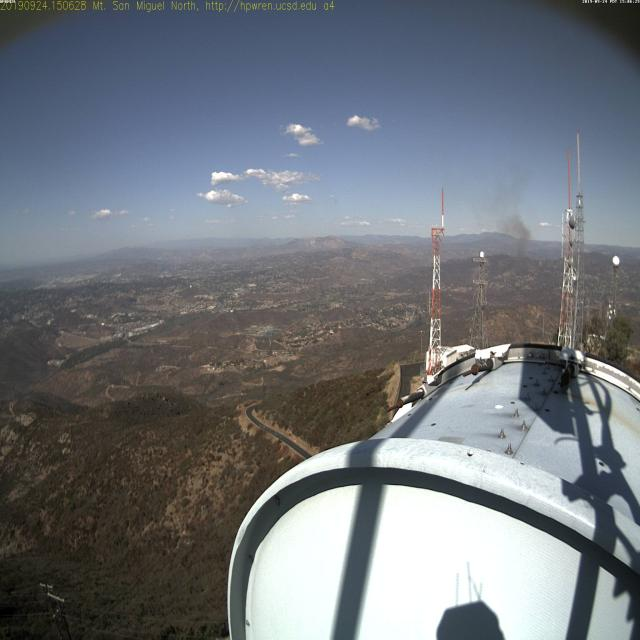smoke: (499, 219, 532, 265)
